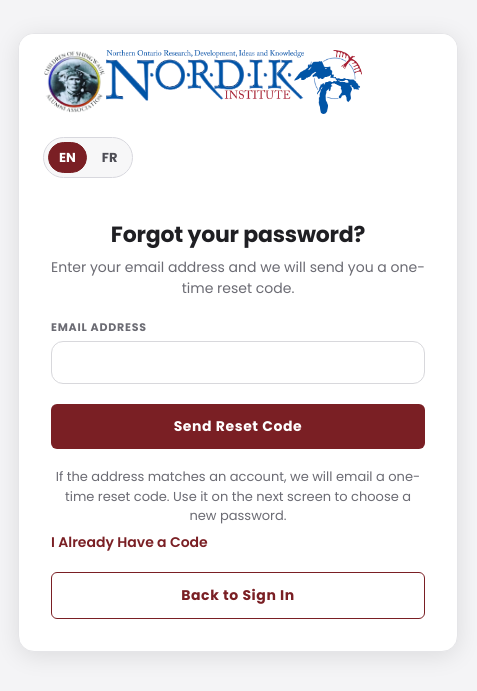
Test: ForgotPasswordPage › shows a field error when the email address is missing
Click the button "Send Reset Code" at [238, 426], box [51,404,425,449]
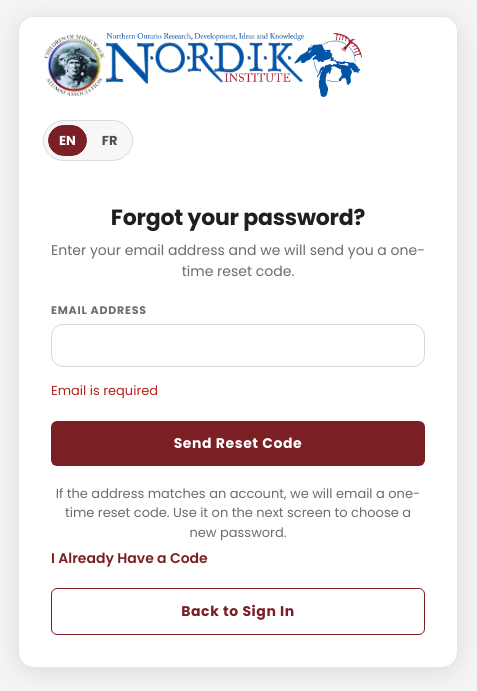
Now the text "Email is required" is shown, box [51,381,158,400]
